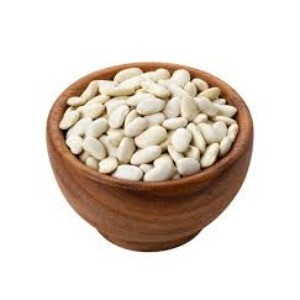beans_brain food: (93, 80, 203, 164)
